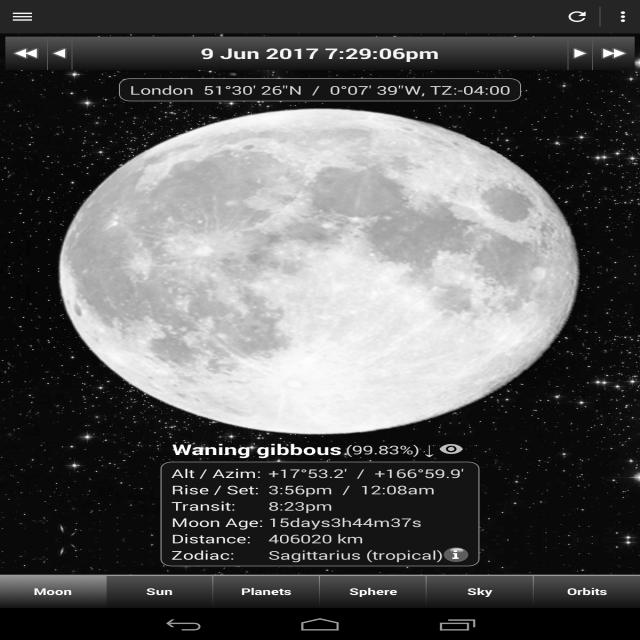ImageButton: (5, 37, 47, 70), (593, 37, 635, 70), (5, 0, 39, 33), (560, 0, 594, 33), (606, 0, 640, 33), (48, 37, 71, 70), (569, 37, 592, 70), (443, 547, 469, 562)
ImageView: (58, 108, 582, 436), (434, 436, 468, 462)
TextView: (130, 82, 510, 98), (200, 37, 325, 70), (268, 481, 469, 498), (268, 530, 469, 547), (172, 439, 342, 459), (268, 465, 469, 481), (268, 498, 469, 514), (268, 514, 469, 530), (268, 547, 443, 563), (325, 37, 405, 70), (171, 481, 268, 498), (171, 530, 268, 547), (171, 465, 268, 481), (171, 498, 268, 514), (171, 514, 268, 530), (171, 547, 268, 563), (343, 441, 434, 458), (405, 37, 439, 70), (241, 585, 291, 598), (349, 585, 397, 598), (567, 585, 607, 598), (34, 585, 72, 598), (146, 585, 173, 598), (467, 585, 492, 598)
